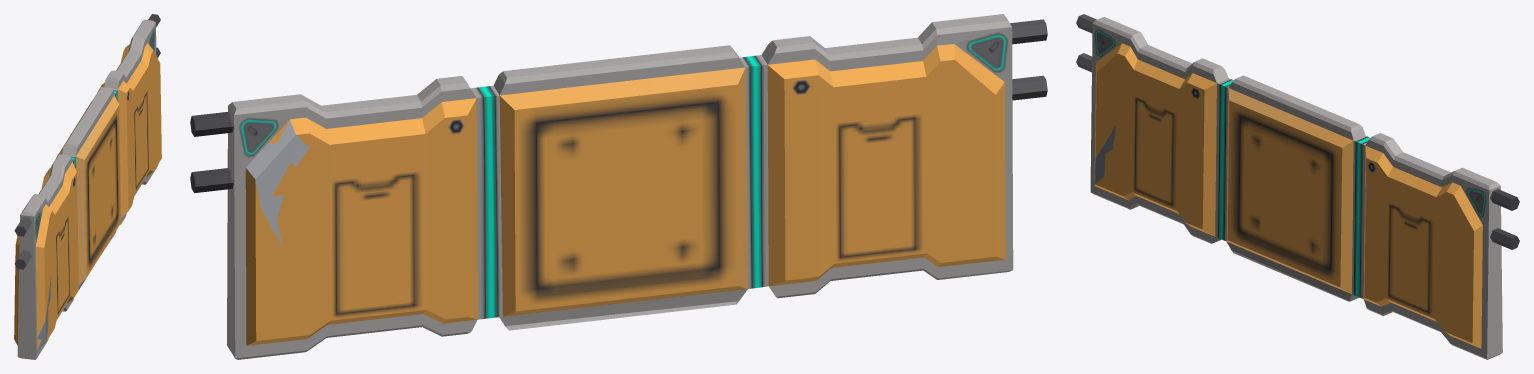
The model's file is SM_Bld_Railing_Rail_45_02.fbx.
3 views of the same model, side by side, from view 1: azimuth 30°, elevation 25°; view 2: azimuth 150°, elevation 25°; view 3: azimuth 270°, elevation 25° (orthographic). The views are drawn at different scales.
Parts seen in each view (by area): view 1: SM_Bld_Railing_Rail_45_02; view 2: SM_Bld_Railing_Rail_45_02; view 3: SM_Bld_Railing_Rail_45_02.
Boxes of the visible parts, x1,y1,x2,y2 form: SM_Bld_Railing_Rail_45_02: (14, 14, 161, 359); SM_Bld_Railing_Rail_45_02: (190, 14, 1047, 359); SM_Bld_Railing_Rail_45_02: (1076, 14, 1519, 359).
Bounding box in the file's own units: 258 × 111 × 258.
